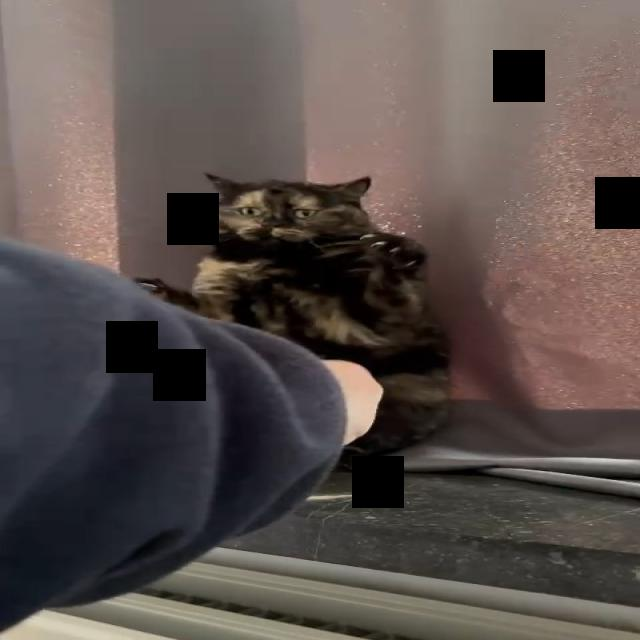authorized: (135, 172, 452, 466)
